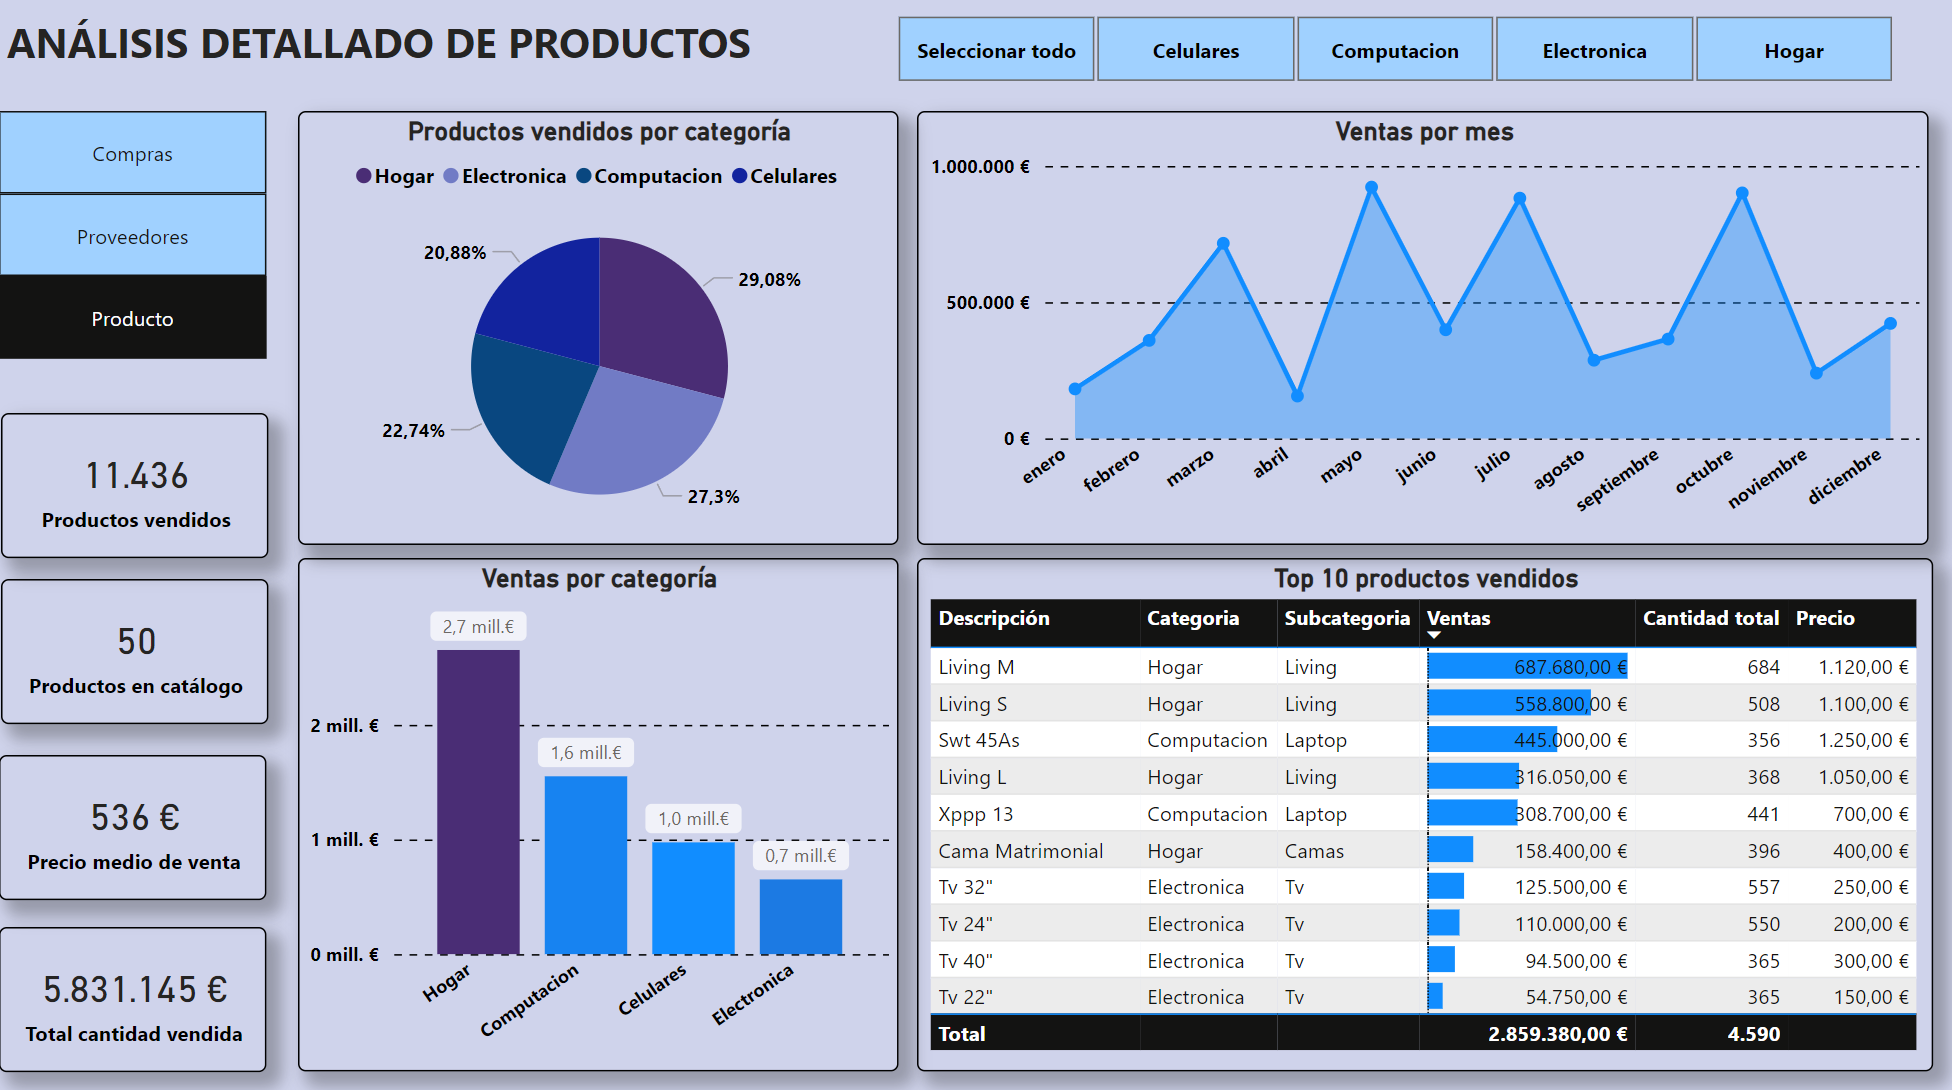

The dashboard page shown, as its layout file describes it:
{"tool":"powerbi","page":{"name":"Producto","canvas":[1280,720],"ordinal":2},"visuals":[{"type":"pieChart","title":"Productos vendidos por categoría","fields":{"Y":["Dax Medidas.Total cantidad producto"],"Category":["Productos.Categoria"]},"box":[195.8,76.3,392.6,284.2],"z":0},{"type":"lineStackedColumnComboChart","title":"Ventas por categoría","fields":{"Category":["Productos.Categoria"],"Y":["Dax Medidas.Total cantidad vendida"]},"box":[195.8,369.4,392.6,336.2],"z":1000},{"type":"tableEx","title":"Top 10 productos vendidos","fields":{"Values":["Productos.descrip_prod","Productos.Categoria","Productos.Subcategoria","Dax Medidas.Total cantidad vendida","Dax Medidas.Total cantidad producto","Ordenes.prec_unt"]},"box":[600.6,369.4,664.7,336.2],"z":2000},{"type":"card","fields":{"Values":["Dax Medidas.Total cantidad producto"]},"box":[1.1,274.3,174.7,95.1],"z":3000},{"type":"card","fields":{"Values":["Dax Medidas.Productos diferentes"]},"box":[1.1,382.7,174.7,95.1],"z":4000},{"type":"card","fields":{"Values":["Avg(Ordenes.prec_unt)"]},"box":[0,497.7,174.7,95.1],"z":5000},{"type":"card","fields":{"Values":["Dax Medidas.Total cantidad vendida"]},"box":[0,610.5,174.7,95.1],"z":6000},{"type":"pageNavigator","box":[0,76.3,175.9,164.8],"z":7000},{"type":"slicer","fields":{"Values":["Productos.Categoria"]},"box":[562.9,7.7,700.1,56.4],"z":8000},{"type":"textbox","box":[0,7.7,545.3,55],"z":9000},{"type":"stackedAreaChart","title":"Ventas por mes","fields":{"Category":["Calendario.Date.Variación.Jerarquía de fechas.Mes"],"Y":["Dax Medidas.Total cantidad vendida"]},"box":[600.6,76.3,662.5,284.2],"z":10000}]}

Visuals, with their boxes in screenshot pixels (x1, y1, x2, y2), scaled from the page's 1280x720 canvas onto the 1952x1090 screenshot:
"Productos vendidos por categoría" pieChart: {"left": 299, "top": 116, "right": 897, "bottom": 546}
"Ventas por categoría" lineStackedColumnComboChart: {"left": 299, "top": 559, "right": 897, "bottom": 1068}
"Top 10 productos vendidos" tableEx: {"left": 916, "top": 559, "right": 1930, "bottom": 1068}
card - Dax Medidas.Total cantidad producto: {"left": 2, "top": 415, "right": 268, "bottom": 559}
card - Dax Medidas.Productos diferentes: {"left": 2, "top": 579, "right": 268, "bottom": 723}
card - Avg(Ordenes.prec_unt): {"left": 0, "top": 753, "right": 266, "bottom": 897}
card - Dax Medidas.Total cantidad vendida: {"left": 0, "top": 924, "right": 266, "bottom": 1068}
pageNavigator: {"left": 0, "top": 116, "right": 268, "bottom": 365}
slicer - Productos.Categoria: {"left": 858, "top": 12, "right": 1926, "bottom": 97}
textbox: {"left": 0, "top": 12, "right": 832, "bottom": 95}
"Ventas por mes" stackedAreaChart: {"left": 916, "top": 116, "right": 1926, "bottom": 546}
